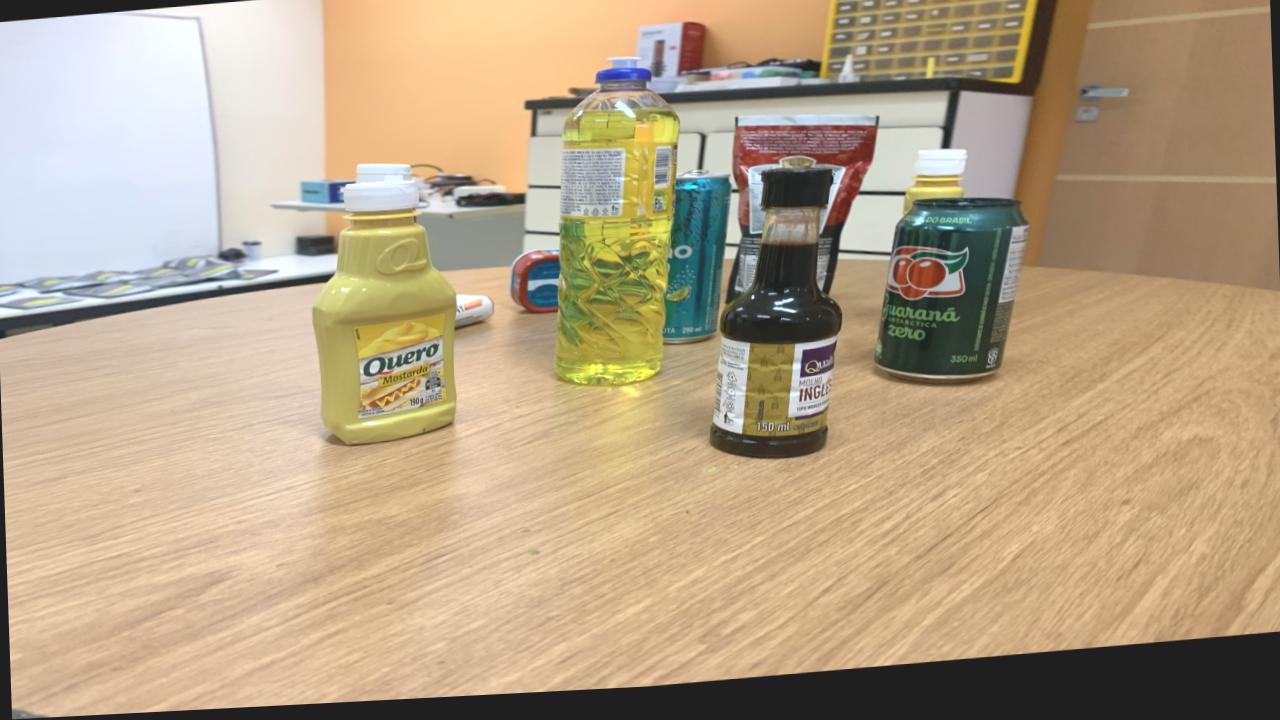Detergent-Cleanup_Items: (556, 65, 678, 392)
English_Sauce-Pantry_Items: (709, 173, 843, 467)
Guarana_Can-Drinks: (874, 208, 1028, 391)
Mustard-Pantry_Items: (313, 183, 457, 448), (904, 159, 967, 224)
Soap-Cleanup_Items: (454, 299, 494, 333)
Tea-Drinks: (663, 177, 731, 351)
Tomato_Sauce-Pantry_Items: (726, 123, 879, 310)
Tuna_Can-Pantry_Items: (510, 254, 561, 319)
